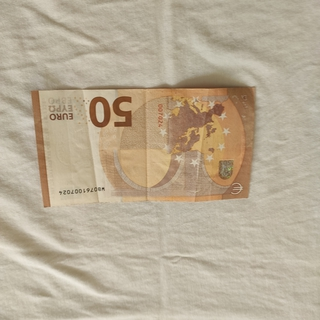50EUROBack: (29, 86, 257, 209)
